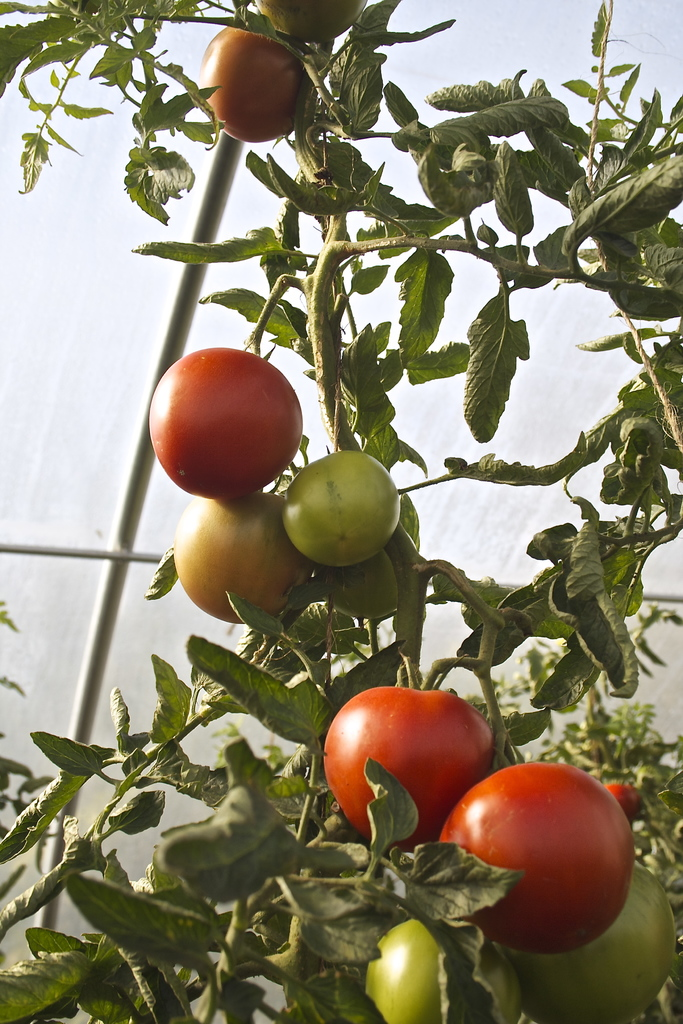Tomato: (433, 759, 638, 948), (314, 682, 498, 861), (514, 869, 680, 1023), (144, 344, 304, 497), (158, 487, 300, 626), (190, 19, 310, 142), (279, 448, 396, 567), (365, 922, 449, 1023), (253, 0, 370, 39)
